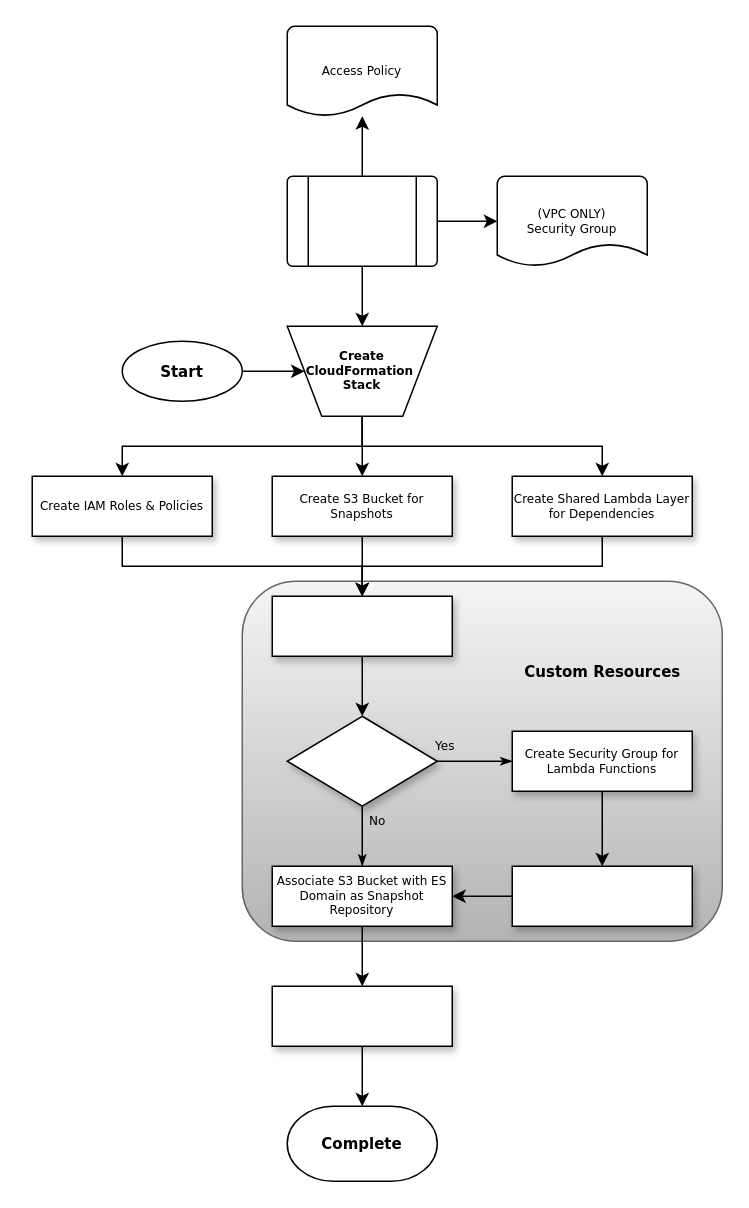
The diagram is 749 pixels wide and 1208 high, and some of its shapes have lost their labels. Each missing label, with the centre of its shape:
Add Security Group Ingress from Lambda SG to ES Domain SG: (603,898)
Add Trust Relationship with Lambda Roles to ES Domain Access Policy: (363,628)
Creates Scheduled Lambda for ES Domain Snapshots: (363,1018)
ES Domain in VPC?: (363,763)
Existing Elasticsearch Domain: (361,220)
